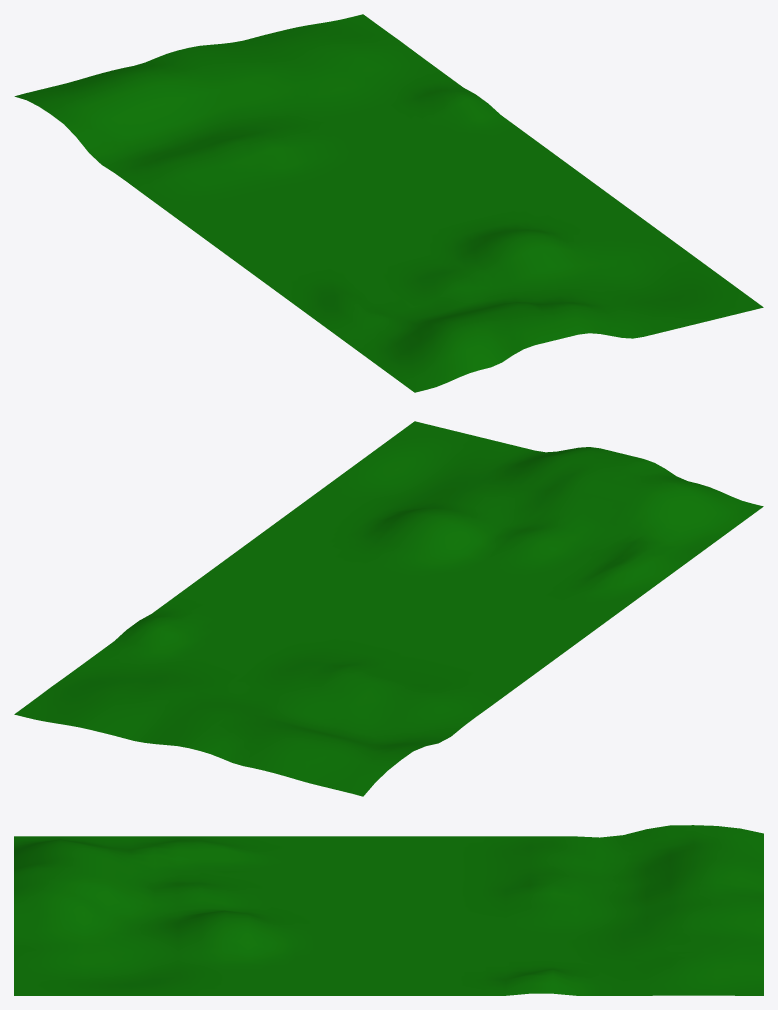
File: terrain3.fbx
3 renders of one model, top to bottom at view 1: azimuth 30°, elevation 25°; view 2: azimuth 150°, elevation 25°; view 3: azimuth 270°, elevation 25°, orthographic. The views are drawn at different scales.
Parts seen in each view (by area): view 1: Plane.014; view 2: Plane.014; view 3: Plane.014.
Boxes of the visible parts, x1=… form: Plane.014: x1=14, y1=14, x2=763, y2=392; Plane.014: x1=14, y1=421, x2=763, y2=796; Plane.014: x1=14, y1=825, x2=763, y2=995.
Size of the model in its own units: 16.5 by 32.8 by 1.43.
